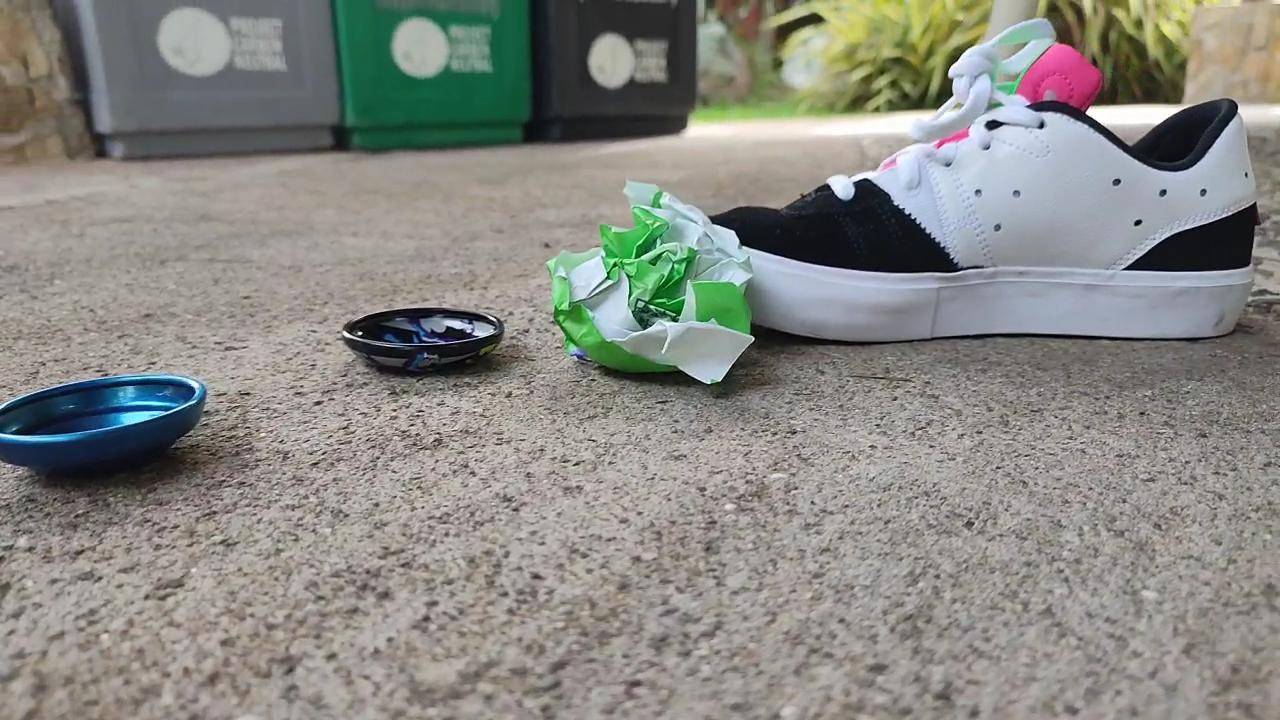Paper: (544, 171, 762, 396)
